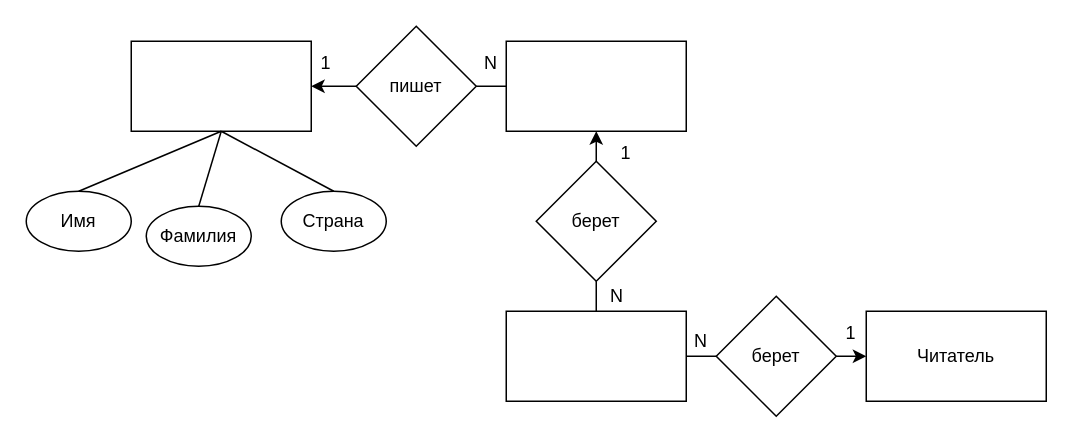
This 1073x443 diagram has some shape labels left out. Here are the shapes that lost their labels. From the top down, the centre of each, then its label:
At point 220,85: "Автор".
At point 595,85: "Книга".
At point 595,355: "Заимствование".
